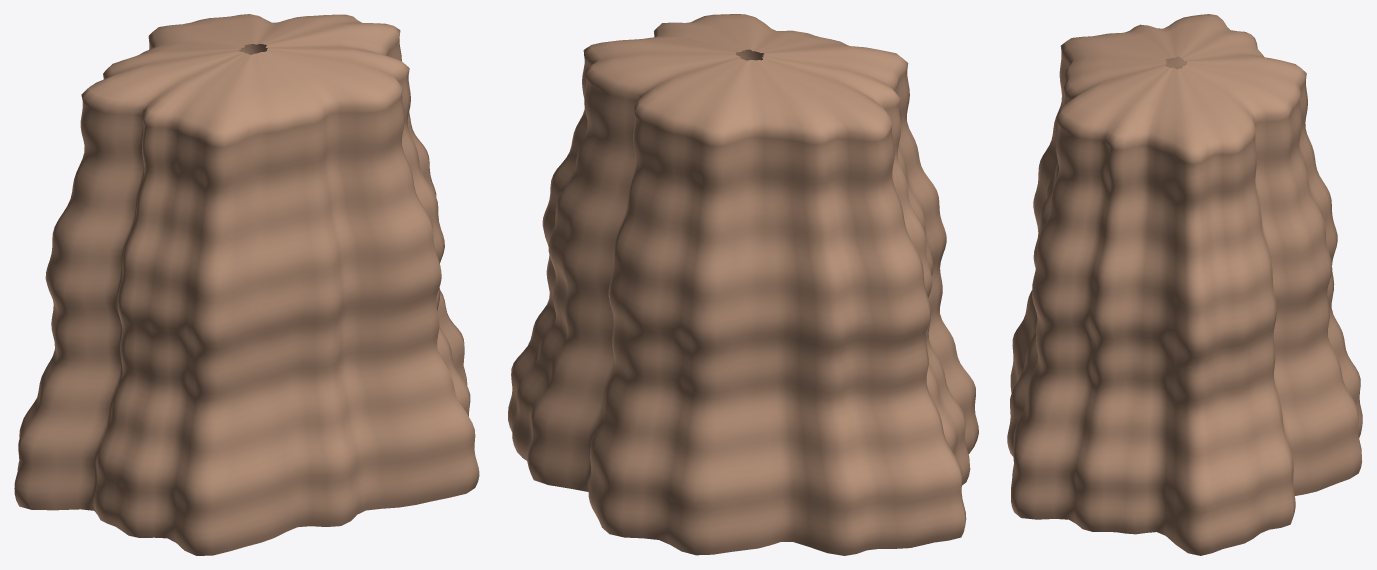
Rendered from mesa_sculpt_0.glb.
3 views of the same model, side by side, from view 1: azimuth 30°, elevation 25°; view 2: azimuth 150°, elevation 25°; view 3: azimuth 270°, elevation 25° (orthographic). The views are drawn at different scales.
Parts seen in each view (by area): view 1: Layered eroded mesa; view 2: Layered eroded mesa; view 3: Layered eroded mesa.
Boxes of the visible parts, bbox=[...] form: Layered eroded mesa: bbox=[14, 14, 479, 555]; Layered eroded mesa: bbox=[508, 14, 978, 555]; Layered eroded mesa: bbox=[1007, 14, 1362, 555].
Bounding box in the file's own units: 2.63 × 2.3 × 1.9.
